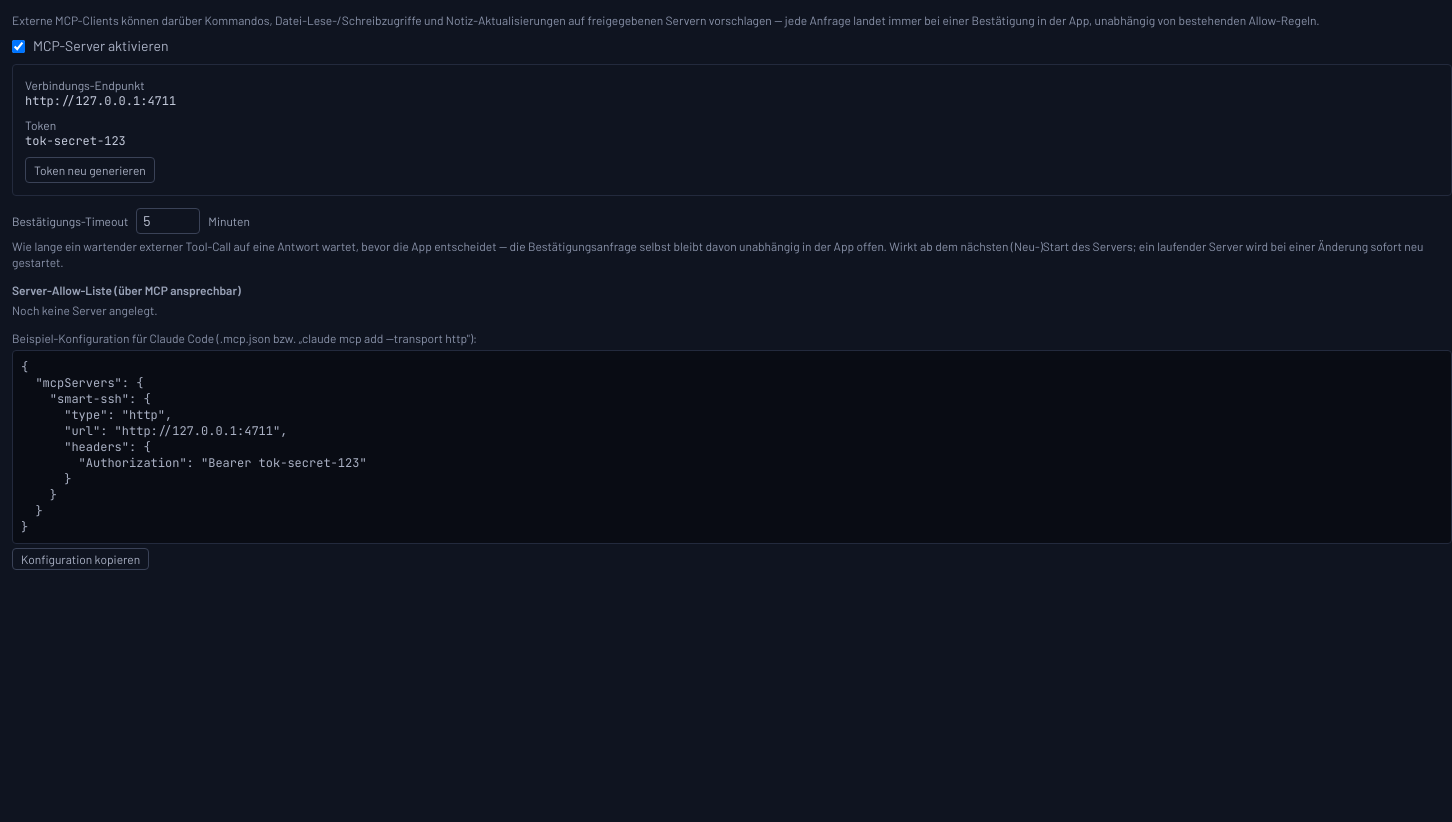
Test: McpServerSettings copy action (issue #184) › shows an error when the clipboard is unavailable
Click the button "Konfiguration kopieren" at (81, 559), box 12,548 -> 149,570
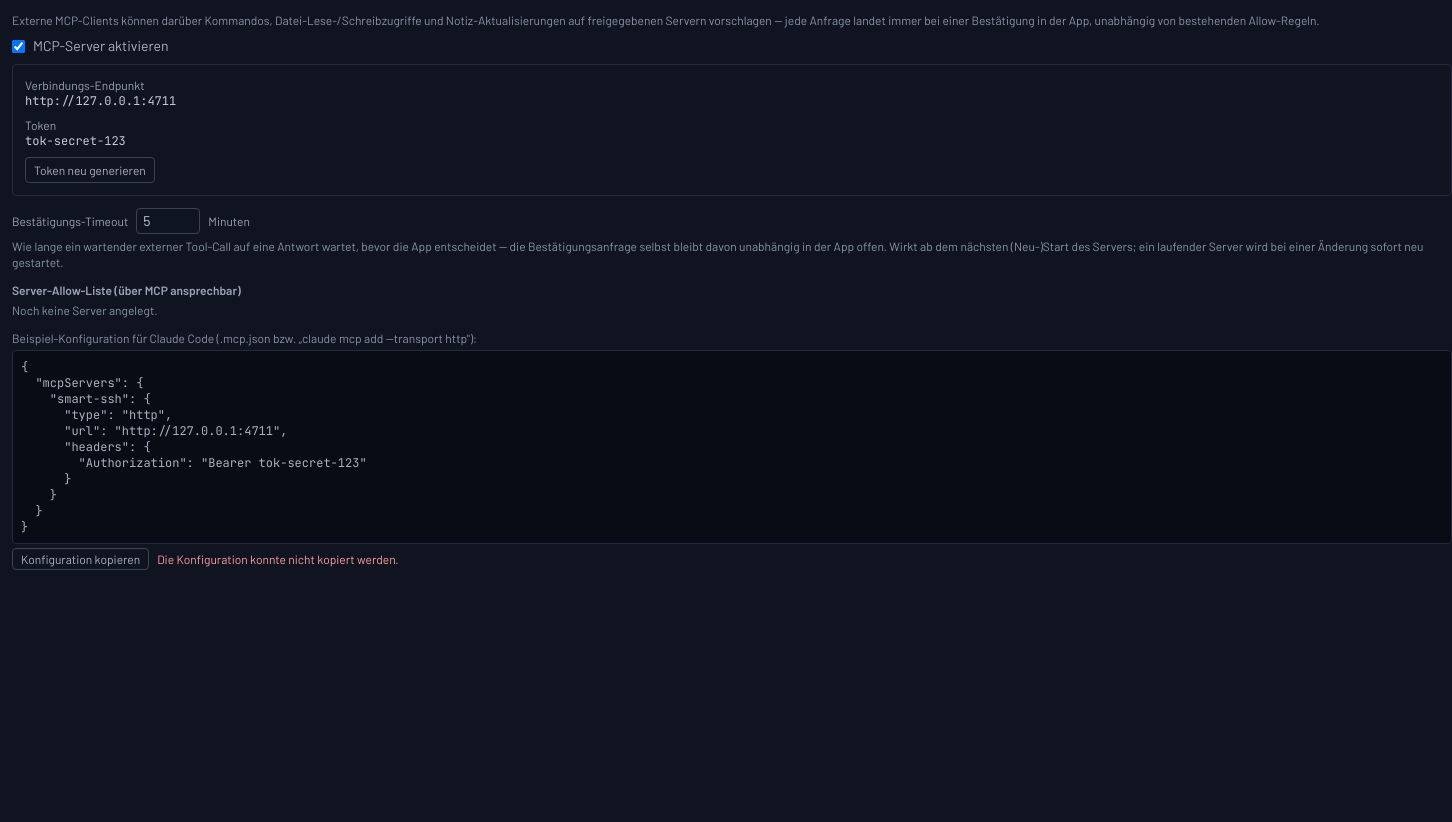
Result: the text "Die Konfiguration konnte nicht kopiert werden." is shown at 157,551 -> 399,567
